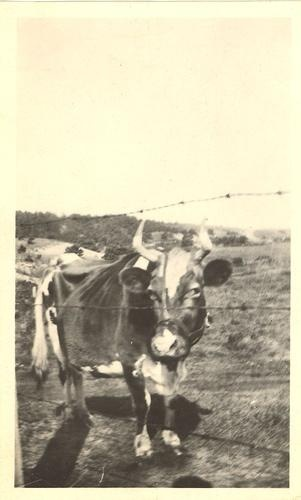cow: (23, 219, 212, 461)
